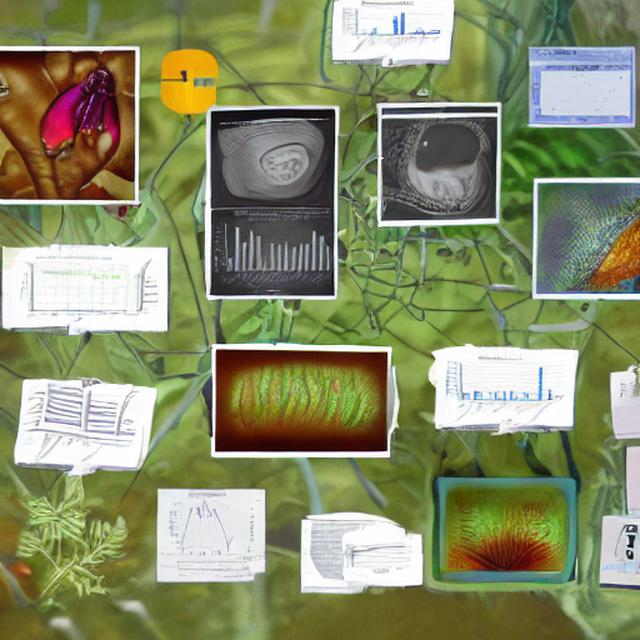Graph: (213, 210, 334, 296), (19, 254, 131, 321), (445, 356, 556, 421), (530, 64, 633, 125), (164, 490, 248, 553), (342, 0, 429, 57), (342, 541, 413, 575)
